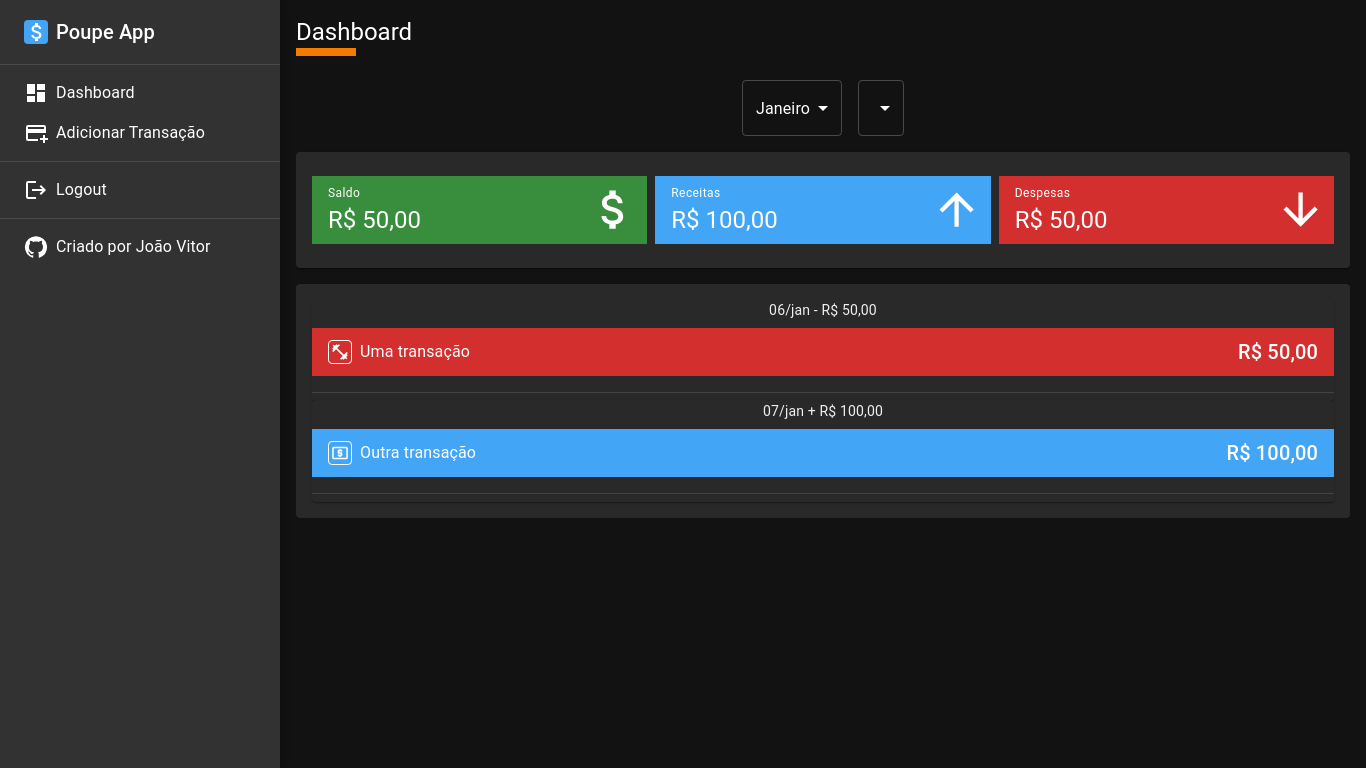
Scenario: <Dashboard /> › Navigate and save context and close modal
Click the text "Outra transação": {"x": 402, "y": 453} [328,441,476,465]
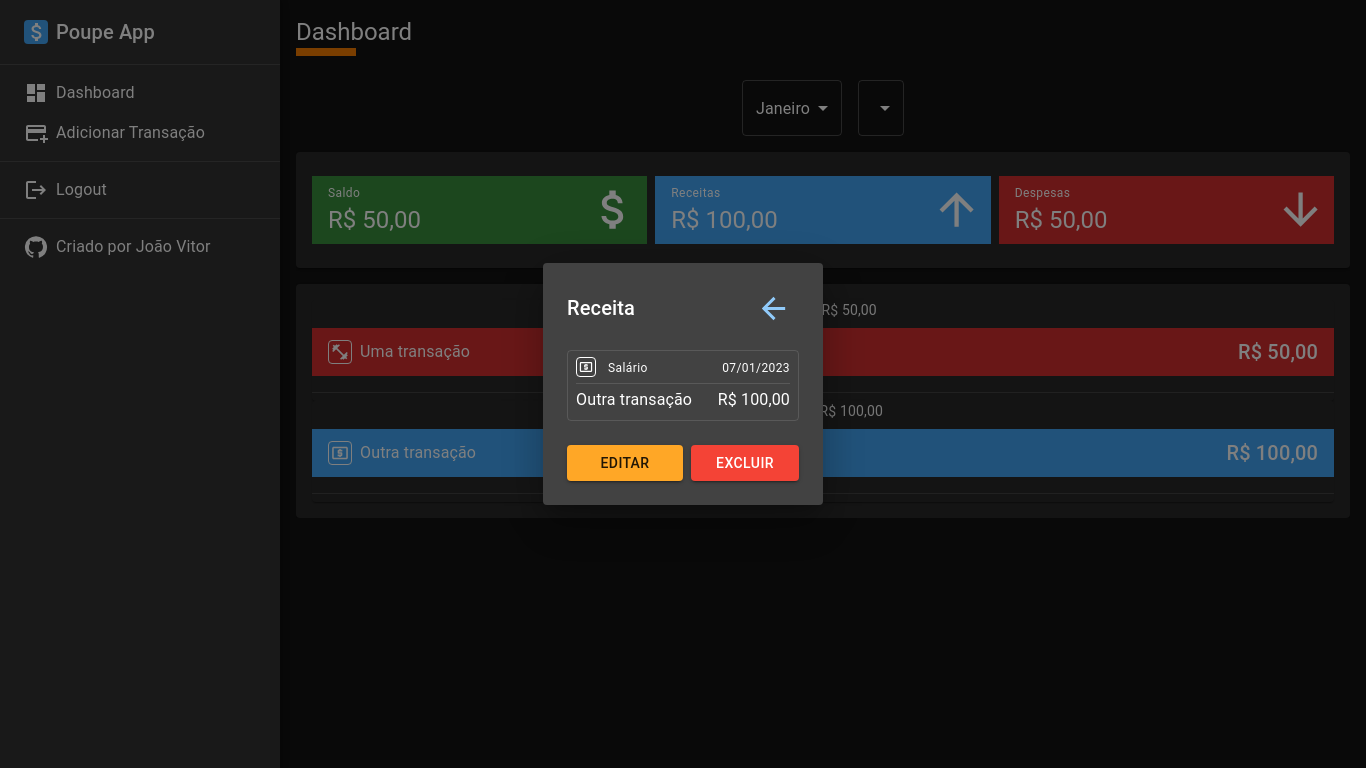
Click the button "Editar": {"x": 625, "y": 463} [567,445,683,481]
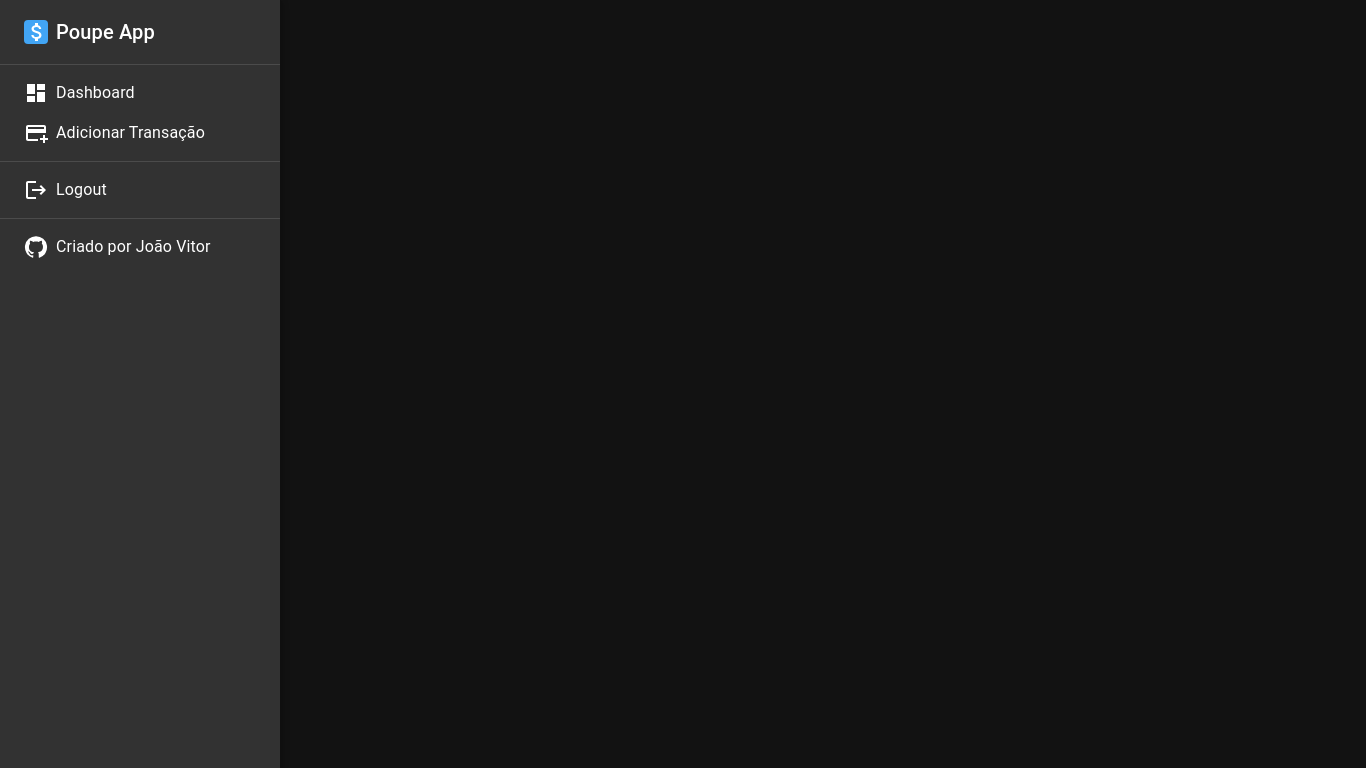
Click the link "Dashboard": {"x": 79, "y": 93} [24,81,135,105]
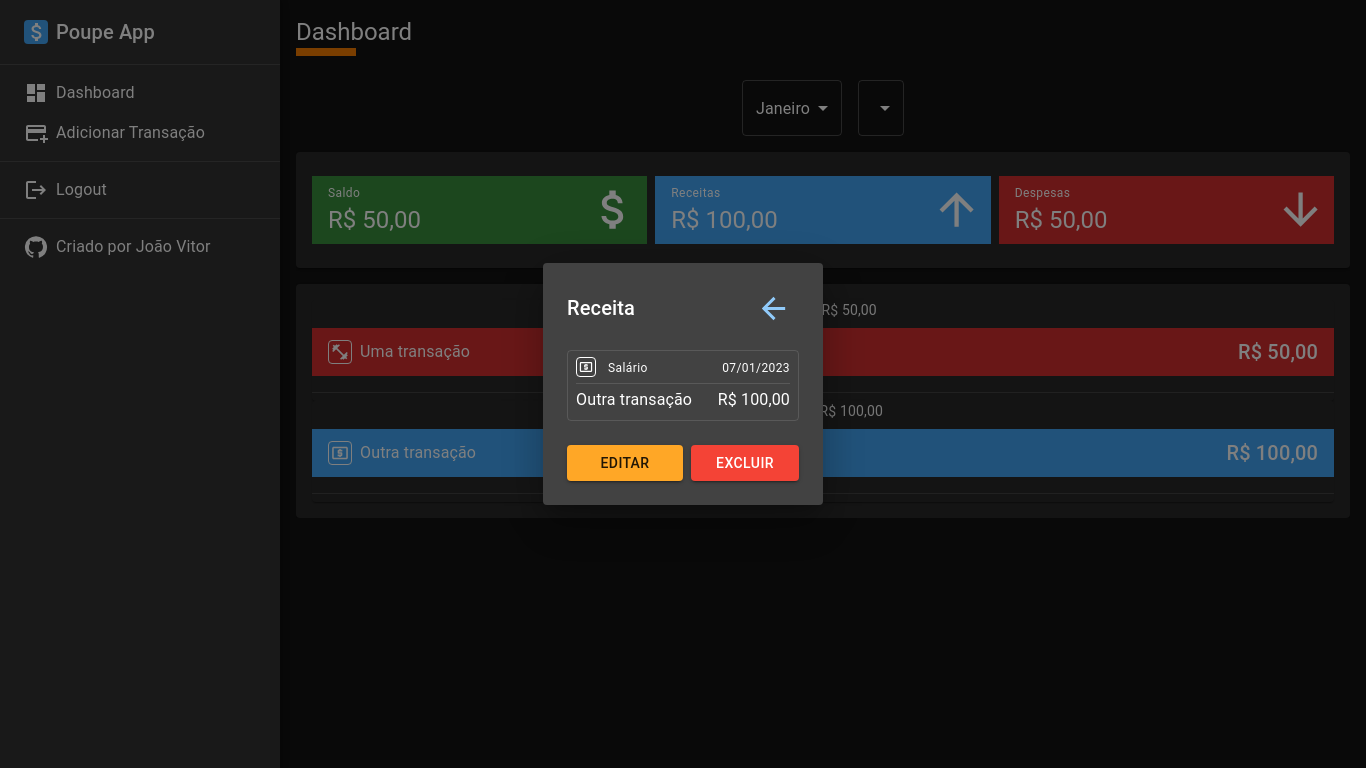
Click the 1st button: {"x": 774, "y": 308} [748,283,799,334]
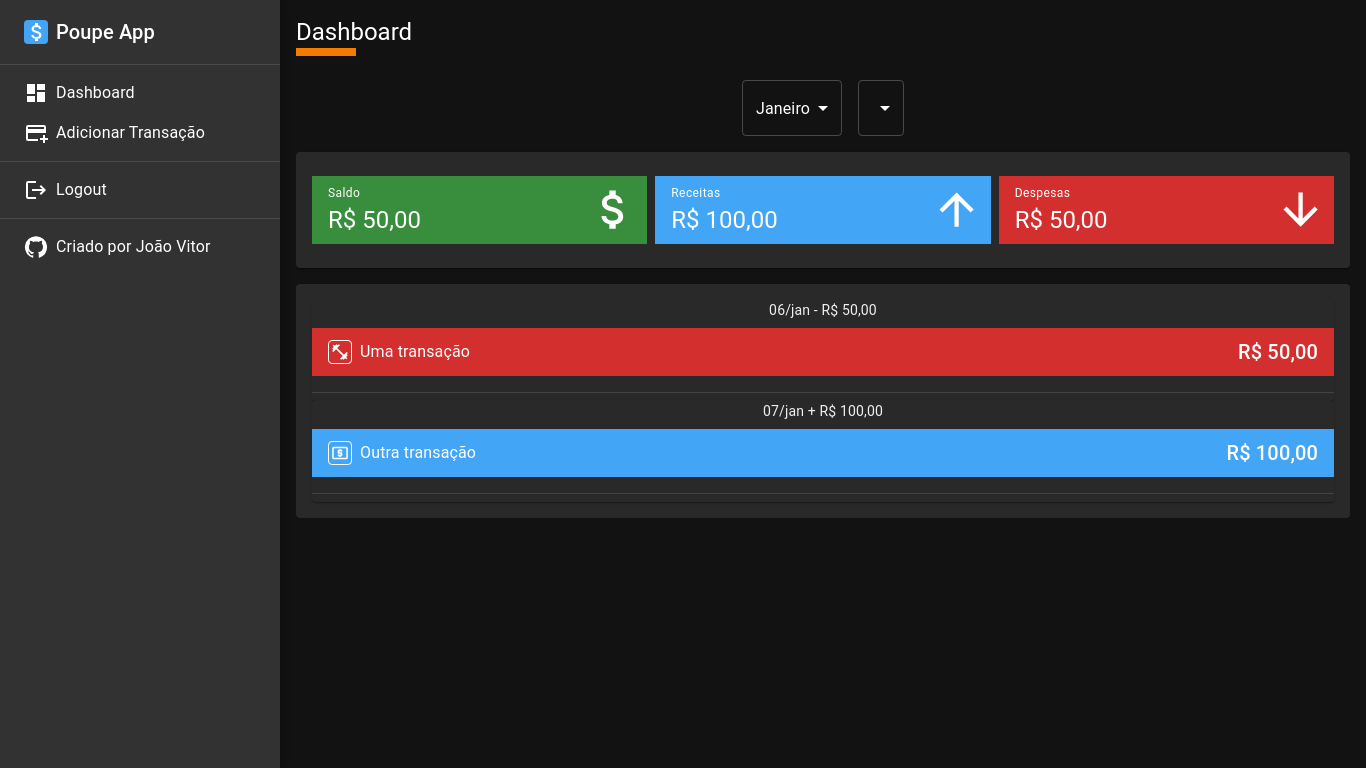
Now the element with test id "transaction" is gone
